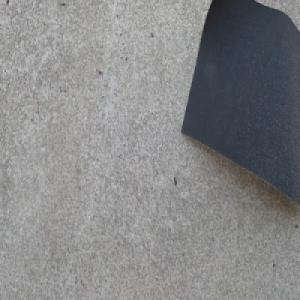PaintChip: (180, 0, 300, 209)
